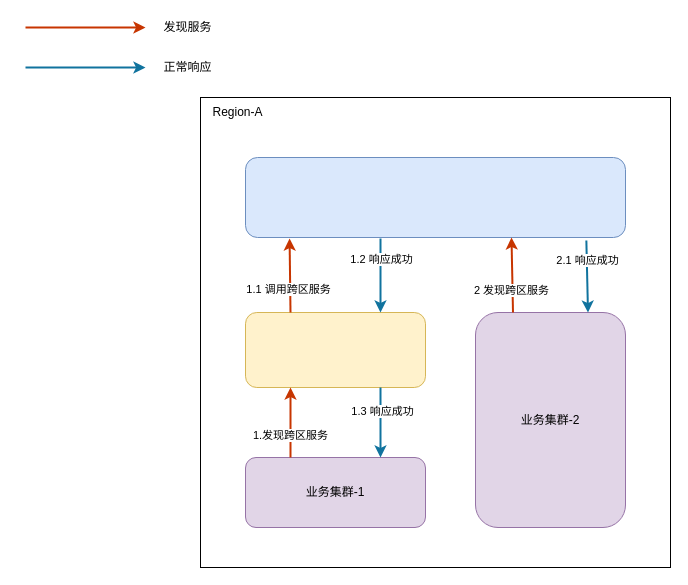
This 688x585 diagram has some shape labels left out. The shapes that lost their labels are listed below. From the top down, each one's centre as x and y in pixels, then its label:
At (x=435, y=197): "发现服务集群".
At (x=335, y=350): "Conagent".
